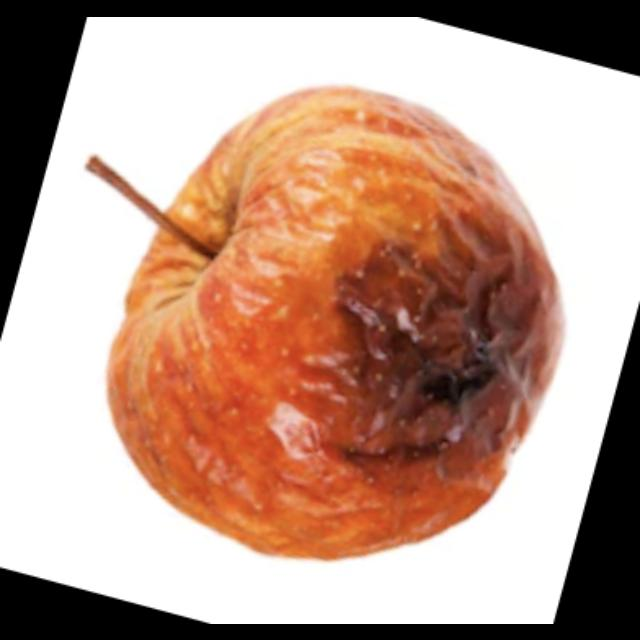Apel Tidak Segar: (106, 84, 568, 554)
